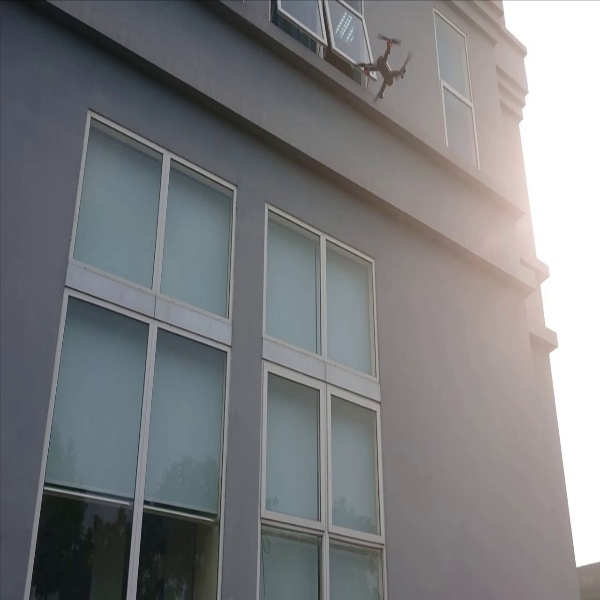drone: (345, 24, 420, 107)
